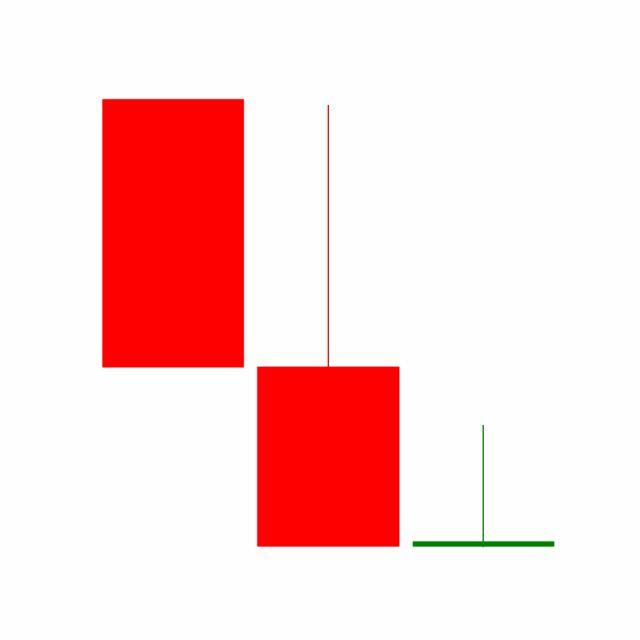Gravestone Doji: (406, 424, 562, 550)
